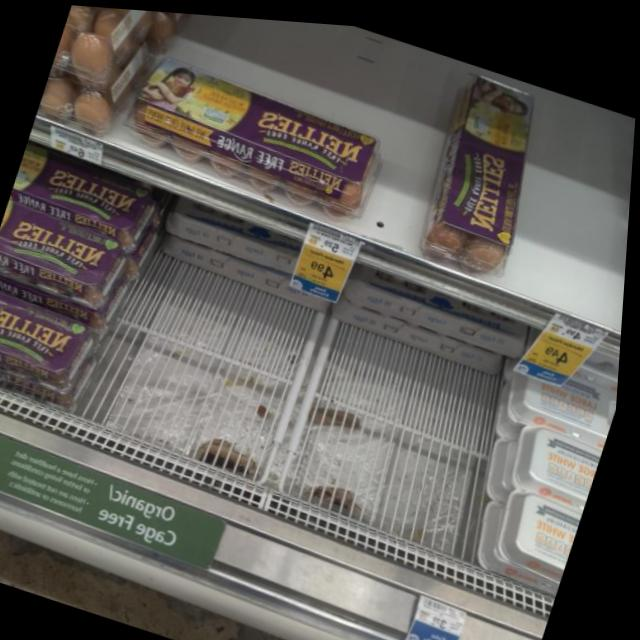Eggs: (102, 45, 397, 219), (396, 48, 577, 274), (0, 192, 149, 322), (0, 289, 98, 423)
